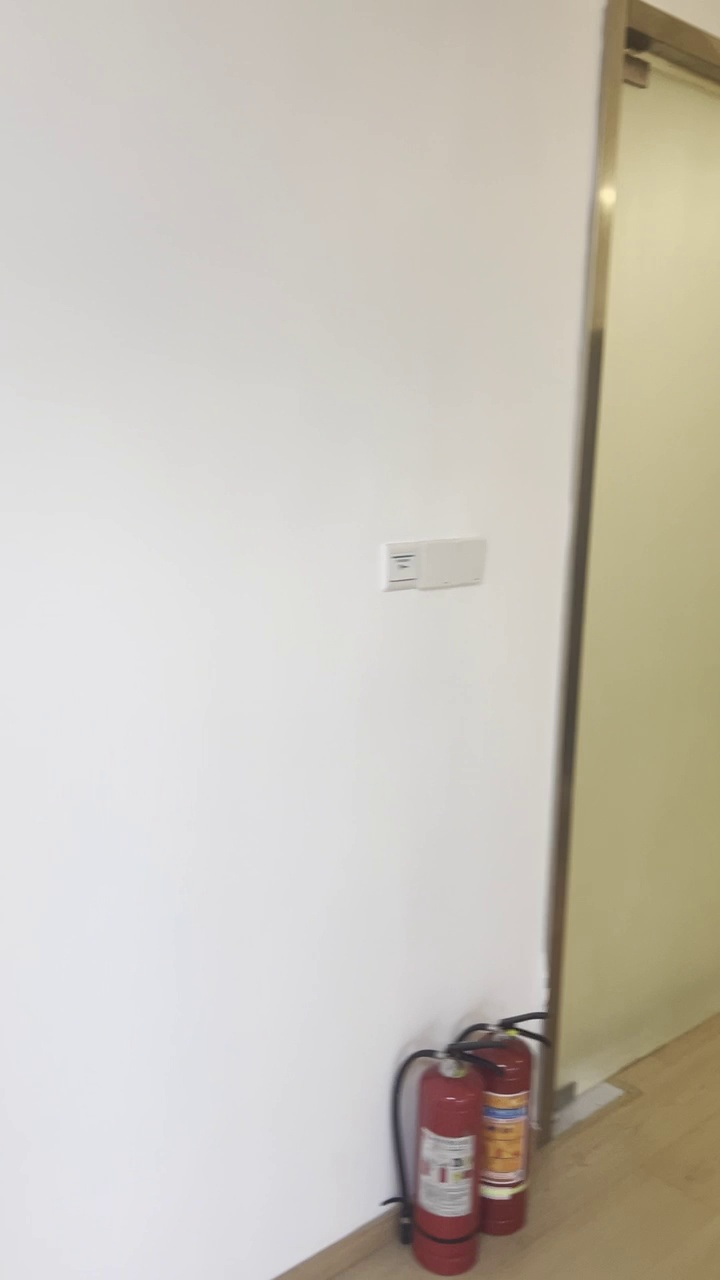button: (421, 539, 486, 588)
